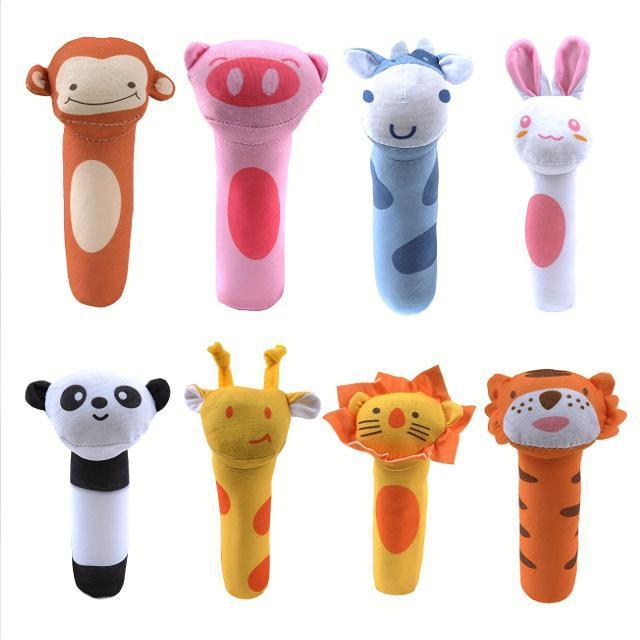soft-toy: (26, 38, 175, 306), (185, 40, 328, 309), (346, 40, 472, 313), (185, 344, 320, 598), (325, 366, 475, 594), (485, 369, 625, 602), (26, 371, 169, 598), (506, 38, 591, 311)
